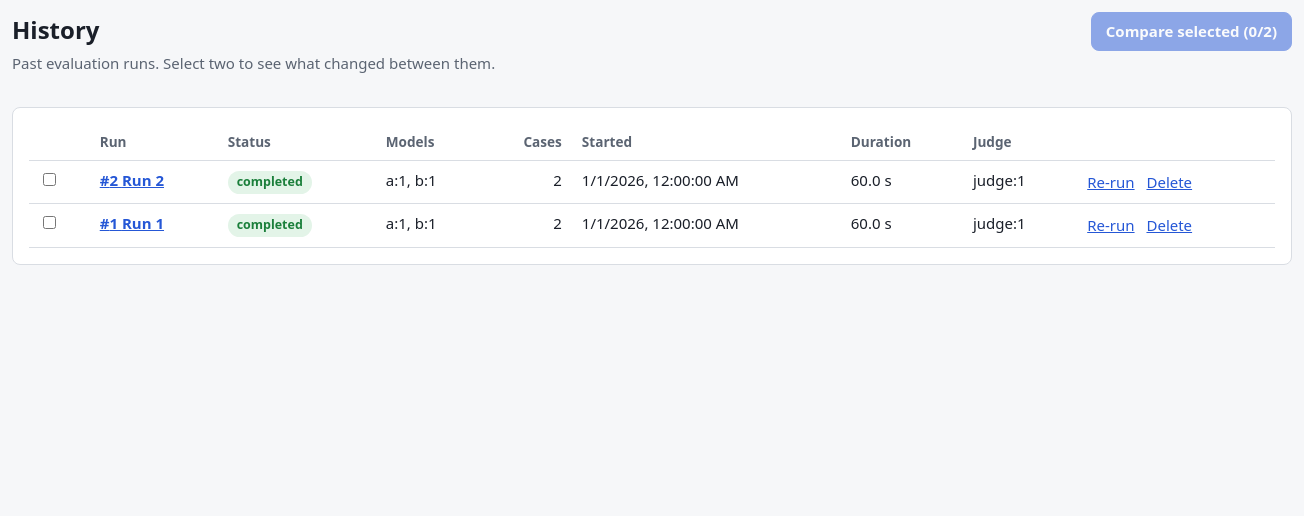
9.9 history page › shows which skills each run used, flagging when they differ
Click the checkbox named "Select run 2 for comparison": (50, 179) [43, 173, 56, 186]
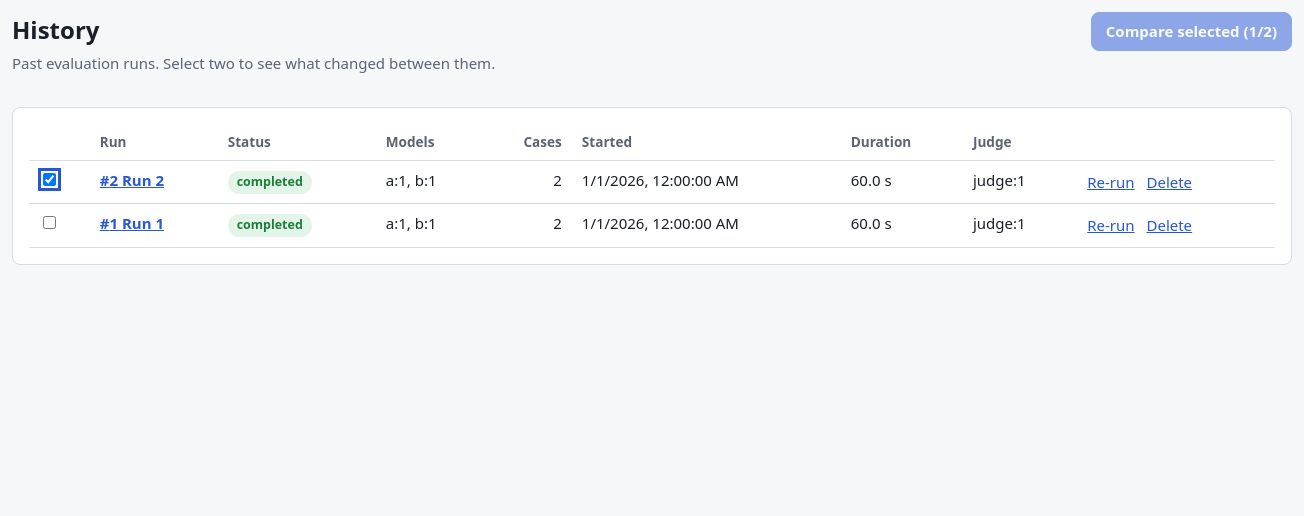
Click the checkbox named "Select run 1 for comparison": (50, 223) [43, 216, 56, 229]
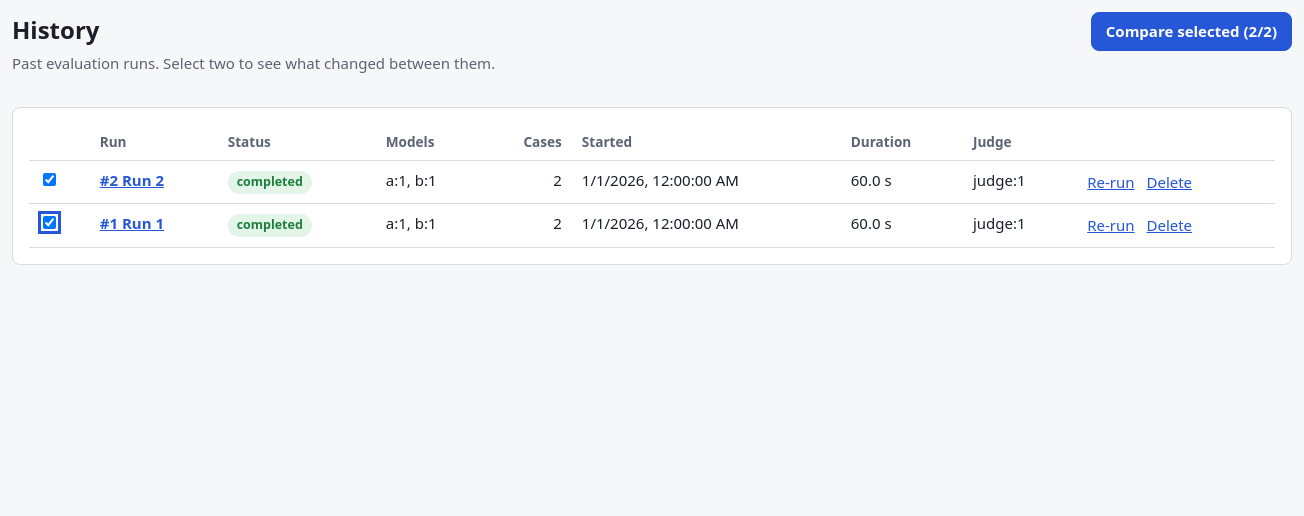
Click the button "Compare selected (2/2)": (1191, 31) [1091, 12, 1292, 50]
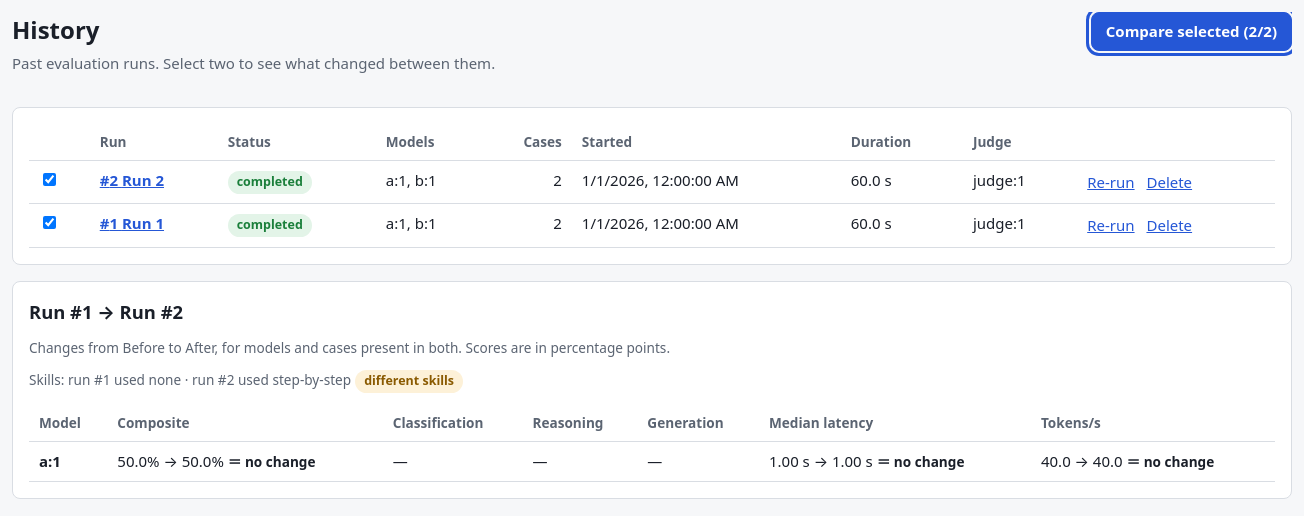
expect the table named "Model changes" is shown: met, box [29, 405, 1275, 482]
expect the text "run #2 used step-by-step" is shown: met, box [29, 370, 463, 393]
expect the text "different skills" is shown: met, box [355, 370, 463, 393]
